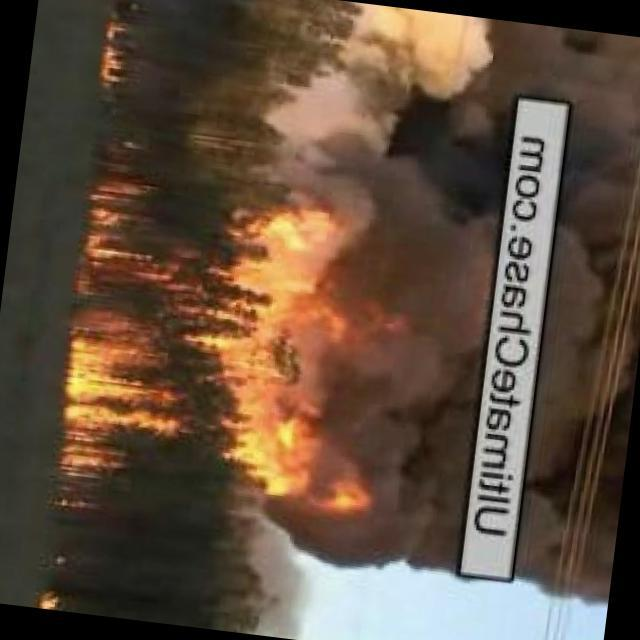Fire: (57, 169, 406, 515), (97, 13, 132, 90), (39, 587, 68, 612)
